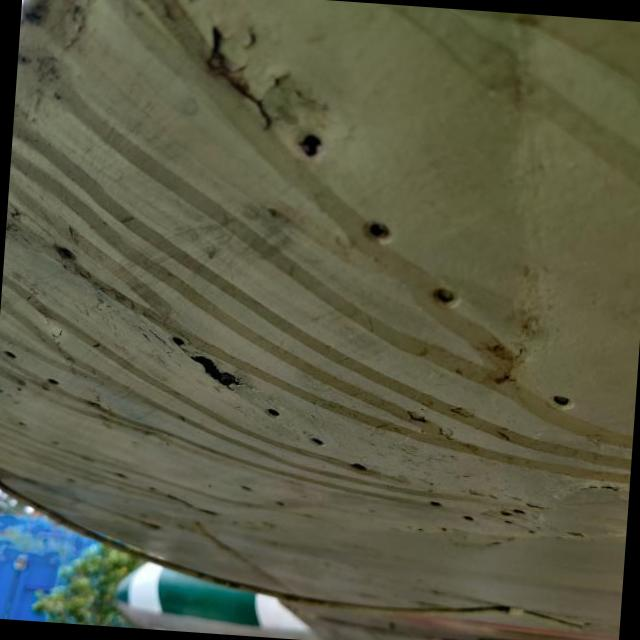Crack: (189, 356, 239, 387), (171, 337, 184, 347)
